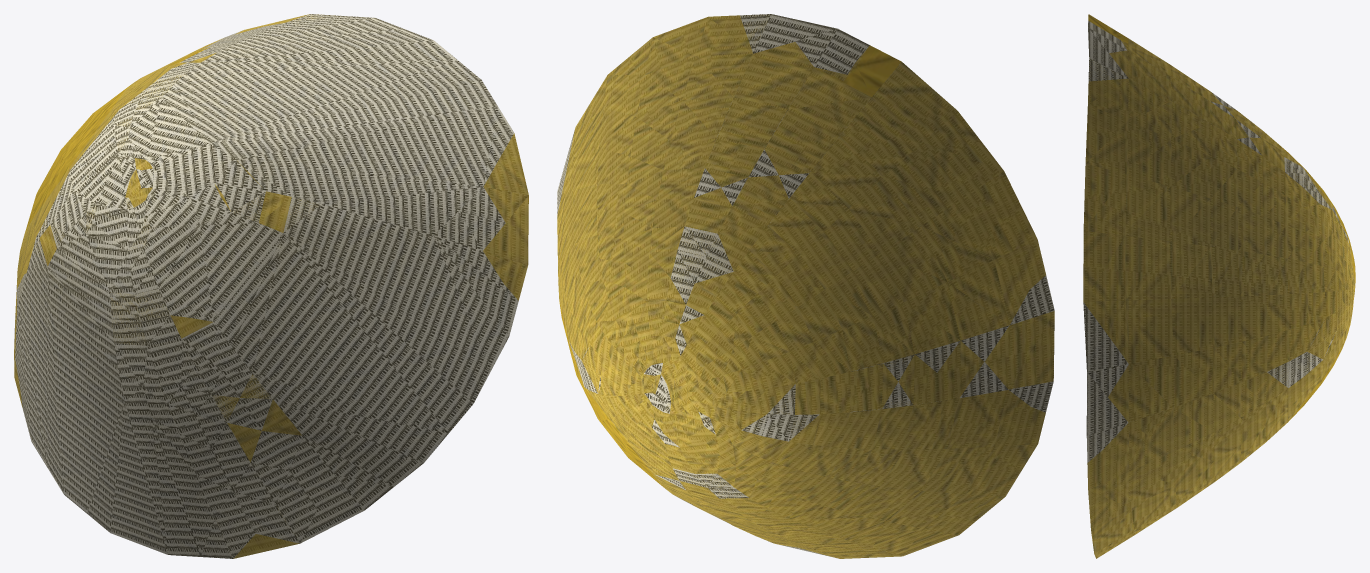
The model's file is model_align.obj.
The picture shows the model from 3 angles, left to right: view 1: azimuth 30°, elevation 25°; view 2: azimuth 150°, elevation 25°; view 3: azimuth 270°, elevation 25°; orthographic projection. The views are drawn at different scales.
Visible parts, largest first — view 1: mesh3_mesh3-geometry, mesh1_mesh1-geometry; view 2: mesh3_mesh3-geometry, mesh1_mesh1-geometry; view 3: mesh3_mesh3-geometry, mesh1_mesh1-geometry.
Part boxes in pixels (x1,y1,x2,y2): mesh3_mesh3-geometry: [14, 14, 528, 558]; mesh1_mesh1-geometry: [14, 14, 528, 558]; mesh3_mesh3-geometry: [557, 14, 1054, 558]; mesh1_mesh1-geometry: [557, 14, 1054, 558]; mesh3_mesh3-geometry: [1083, 14, 1355, 558]; mesh1_mesh1-geometry: [1083, 21, 1354, 557].
Size of the model in its own units: 0.1532 by 0.1532 by 0.0769.
